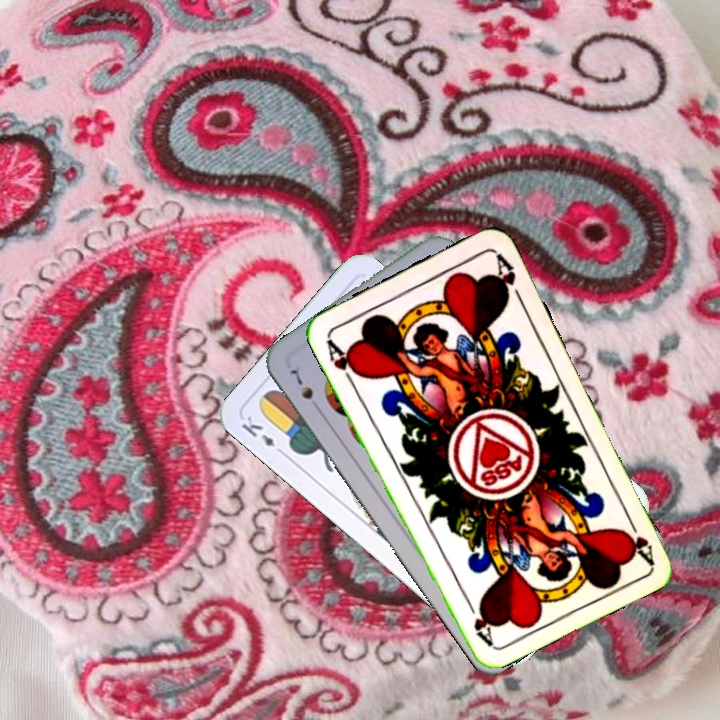EK: (237, 411, 288, 459)
HA: (322, 333, 363, 389), (618, 509, 657, 565)
S7: (285, 365, 324, 414)
